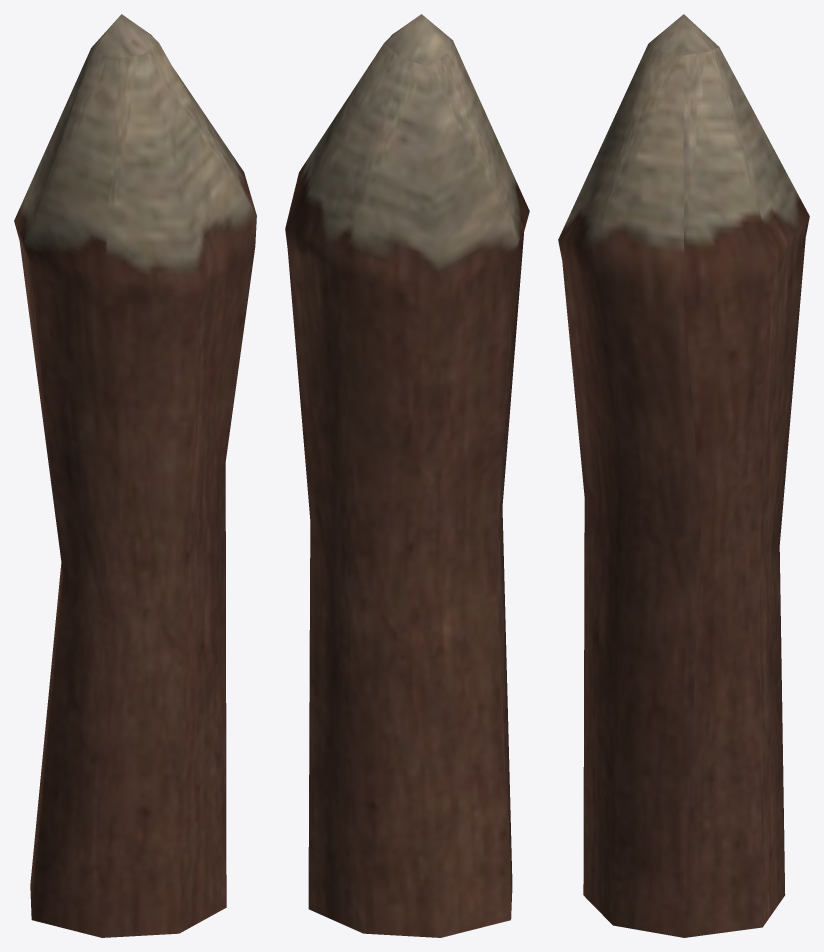
The model's file is fence1.fbx.
The picture shows the model from 3 angles, left to right: view 1: azimuth 30°, elevation 25°; view 2: azimuth 150°, elevation 25°; view 3: azimuth 270°, elevation 25°; orthographic projection.
Parts seen in each view (by area): view 1: fence_long; view 2: fence_long; view 3: fence_long.
Boxes of the visible parts, x1,y1,x2,y2 form: fence_long: [14, 14, 256, 937]; fence_long: [285, 14, 529, 937]; fence_long: [558, 14, 809, 937].
Size of the model in its own units: 0.2784 by 1.07 by 0.2793.
